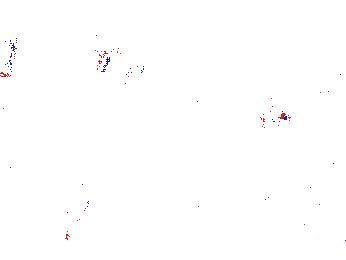glassfish: (67, 160, 106, 225)
red belly glassfish: (259, 111, 292, 129)
redtail glassfish: (88, 44, 146, 80), (1, 31, 21, 77)
